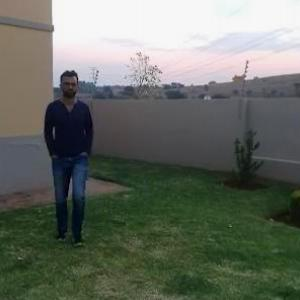follow: (40, 67, 98, 232)
